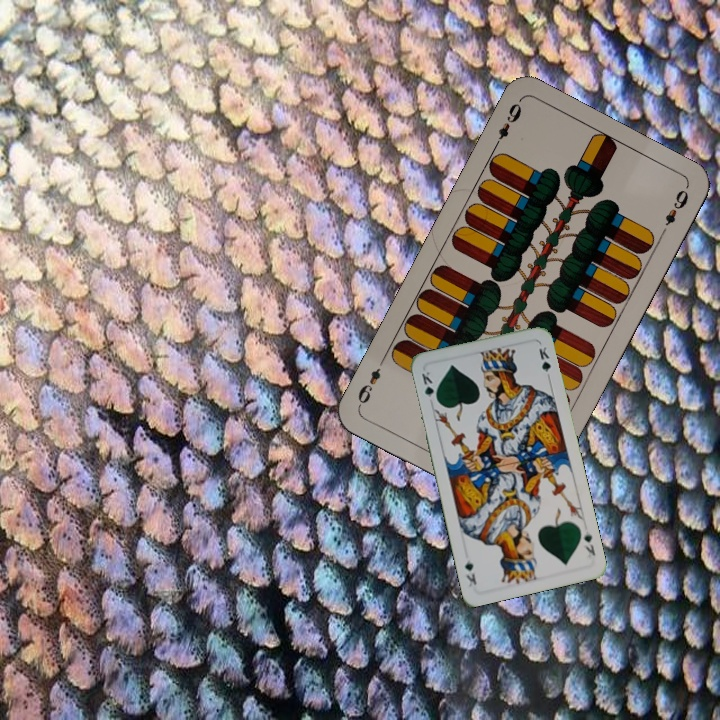E9: (489, 97, 524, 152)
GK: (417, 367, 440, 405), (580, 527, 598, 558)
